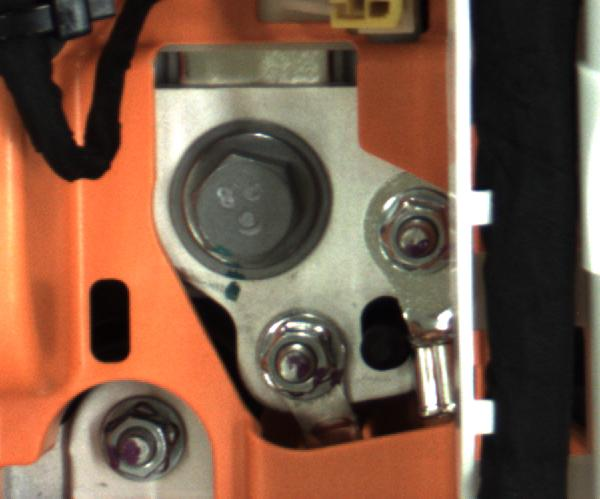nut_b: (168, 119, 317, 269)
screw_s: (251, 323, 363, 413), (364, 191, 477, 279), (94, 399, 198, 486)
